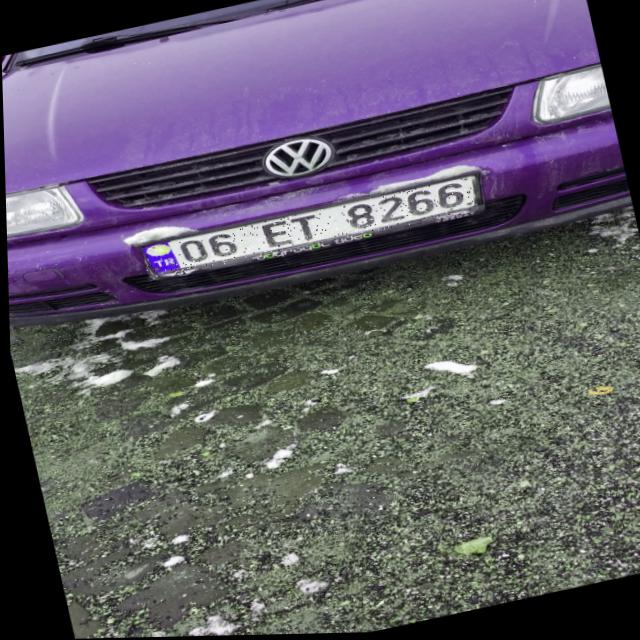license_plate: (139, 178, 482, 282)
